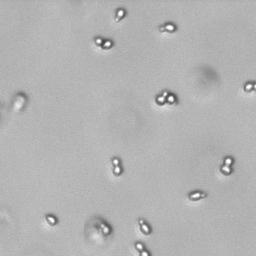budding: (217, 154, 238, 178), (108, 155, 125, 179), (94, 34, 115, 52), (157, 19, 178, 36), (132, 240, 153, 256), (136, 217, 153, 236), (97, 219, 113, 238), (187, 190, 209, 201), (114, 7, 126, 24), (244, 80, 256, 93)
cluster: (153, 89, 184, 108)
individual: (44, 214, 58, 225)
